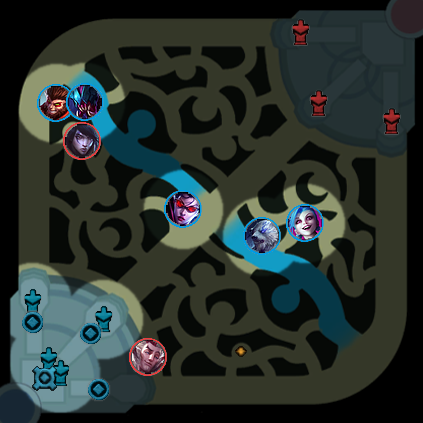Aphelios: (63, 122, 101, 160)
Jinx: (286, 204, 324, 242)
MonkeyKing: (37, 84, 75, 122)
Rakan: (129, 338, 167, 376)
RekSai: (66, 83, 104, 121)
Vayne: (164, 190, 202, 228)
Volibear: (243, 217, 281, 255)
